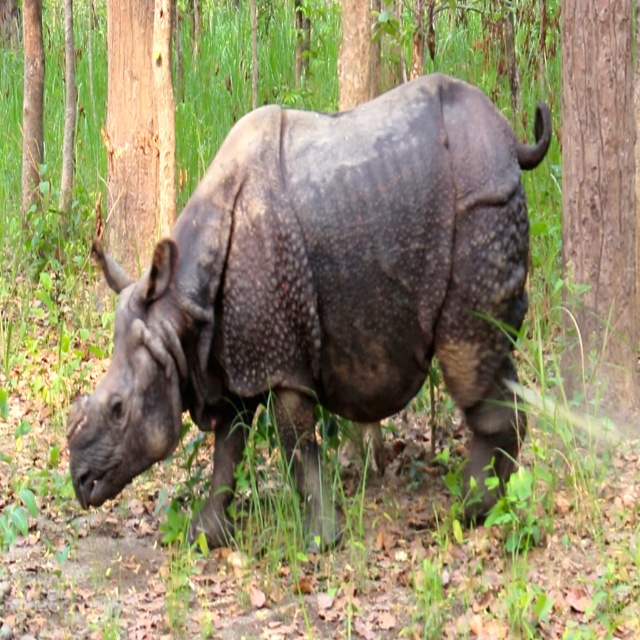Rhinoceros: (62, 62, 552, 563)
